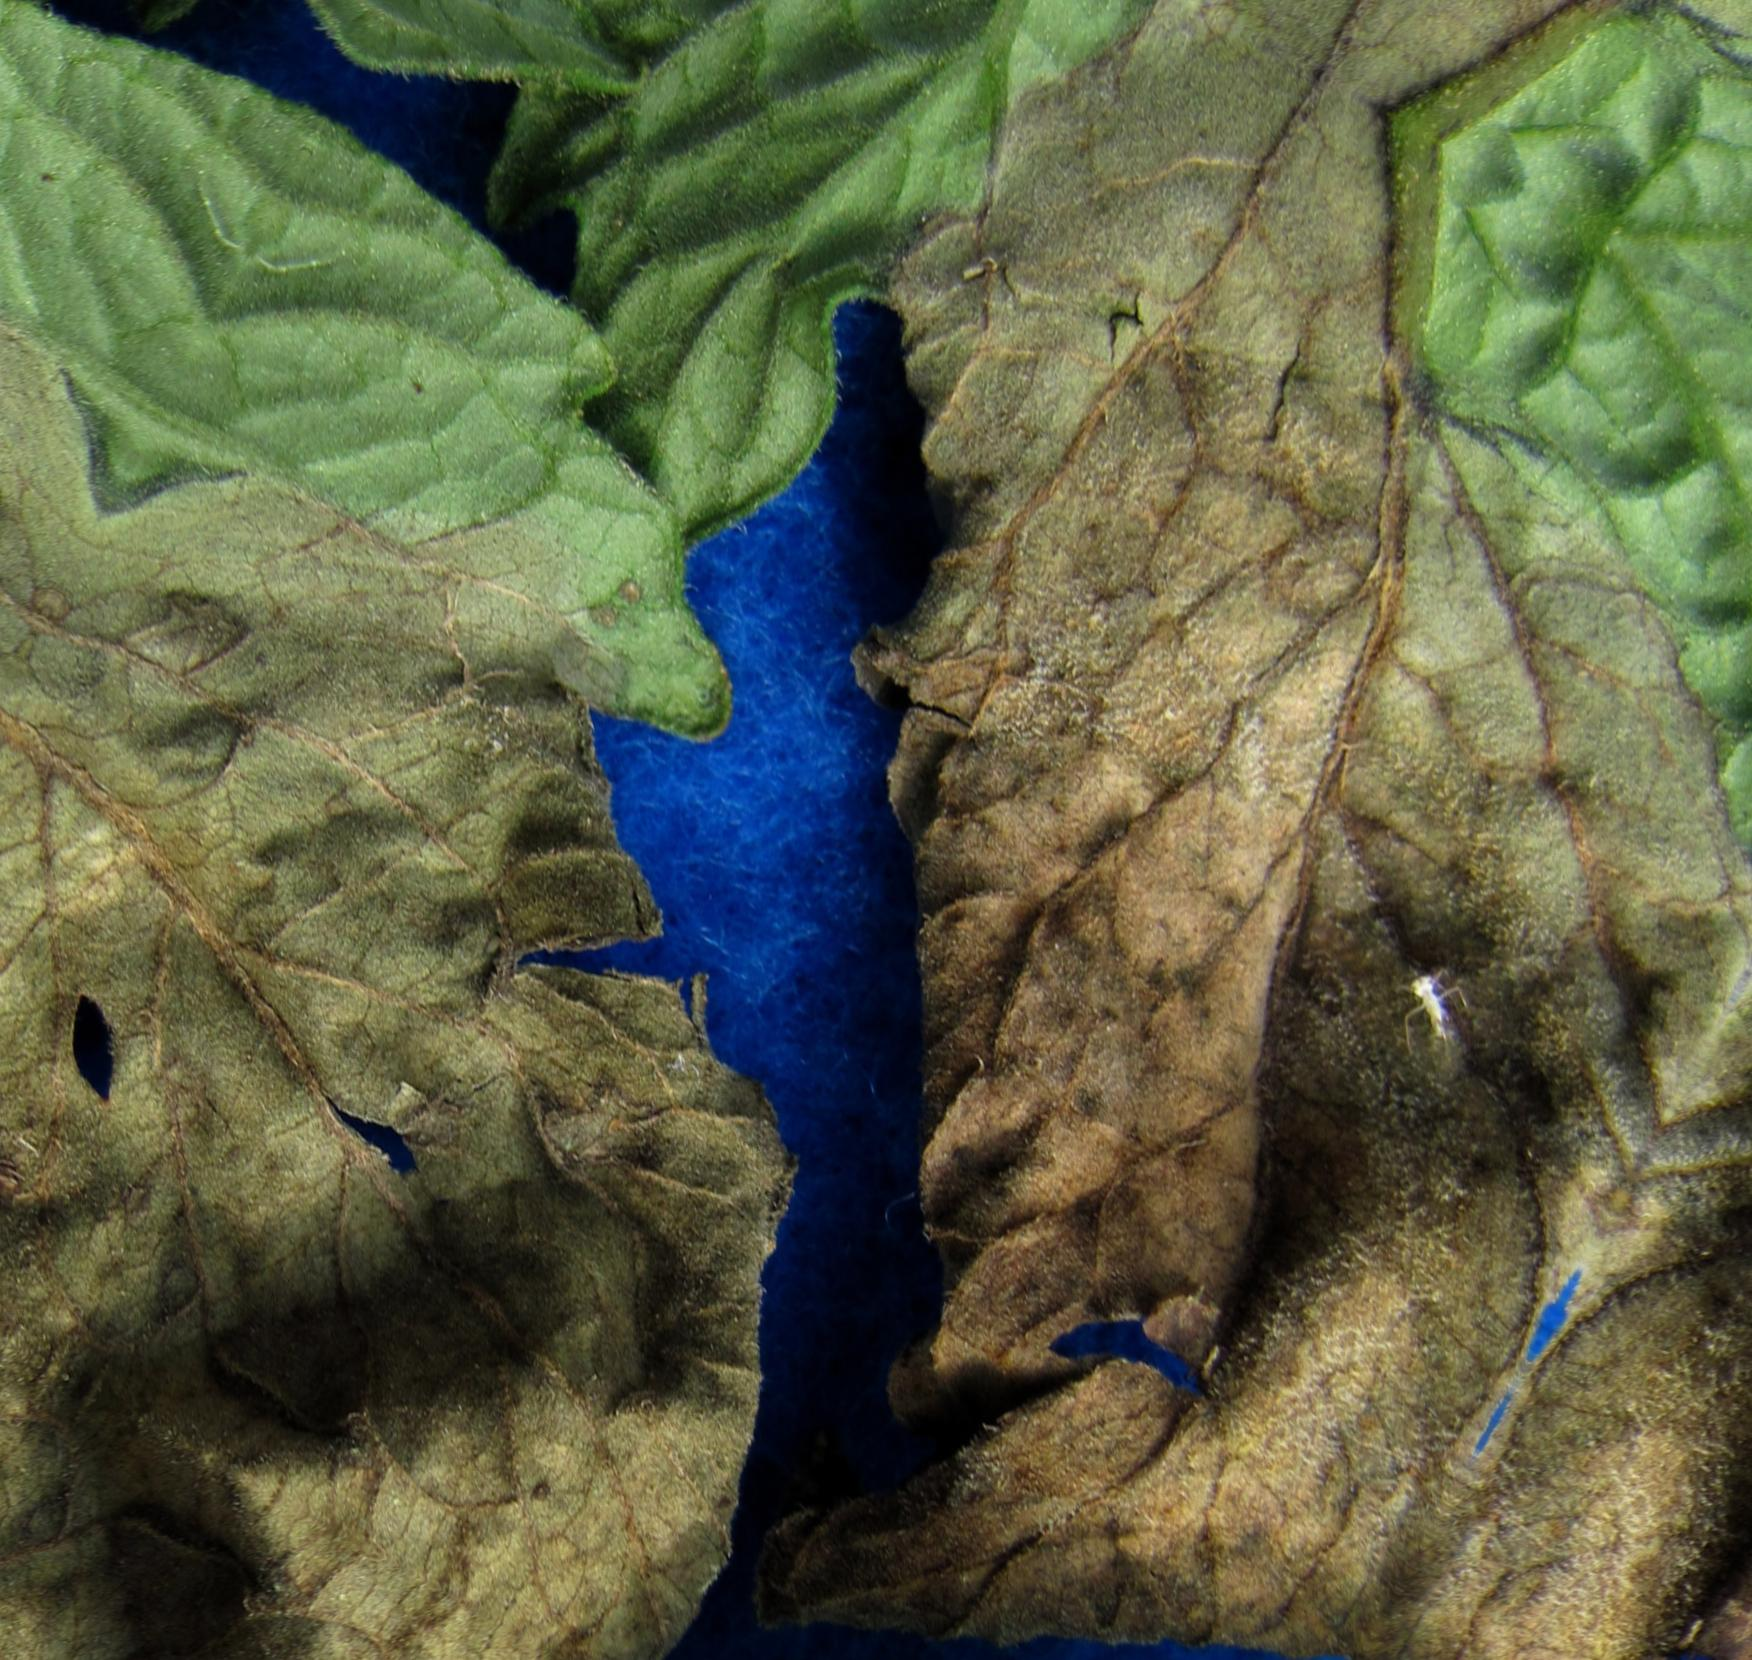Tomato leaf late blight: (0, 0, 1752, 1660), (0, 0, 1413, 1660)
